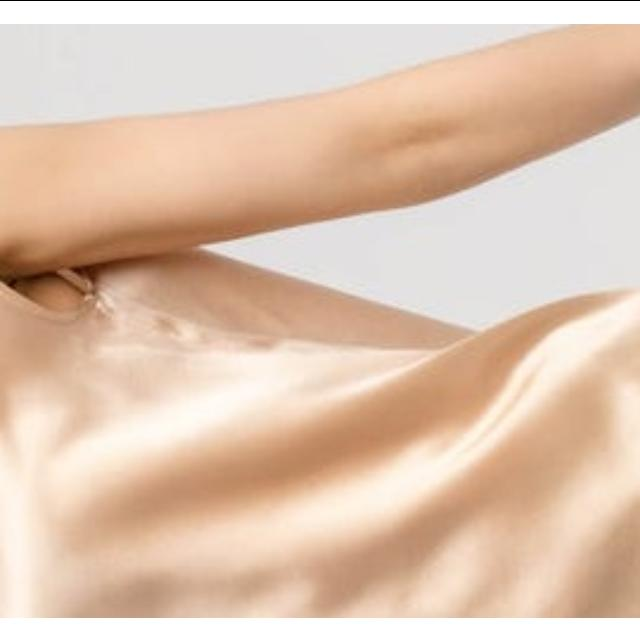silk: (0, 148, 640, 616)
